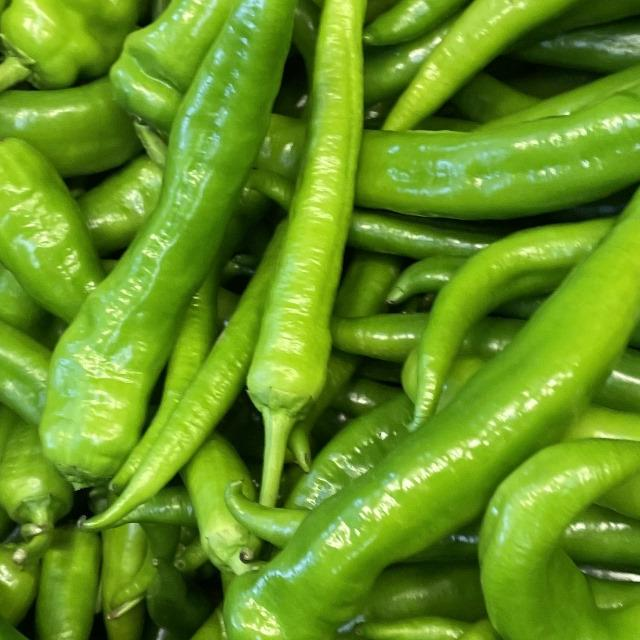chili_pepper: (212, 155, 640, 640), (10, 0, 327, 475)
